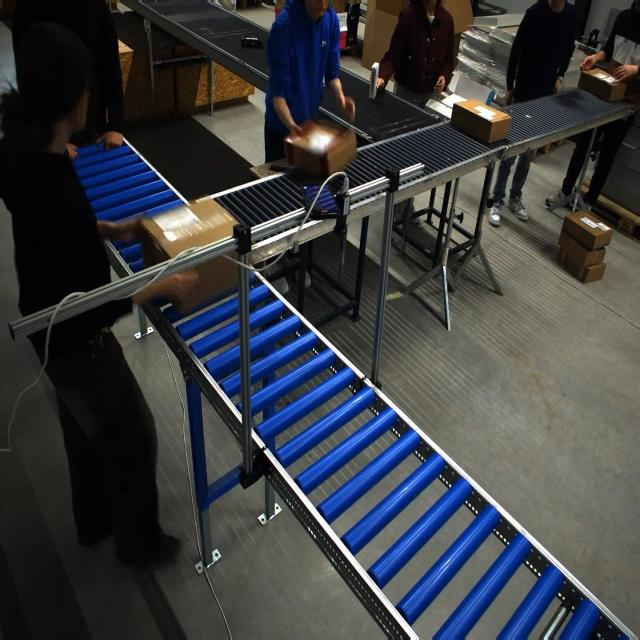box: (139, 199, 246, 301), (283, 120, 350, 180), (450, 98, 511, 144)
product: (368, 61, 383, 101), (241, 35, 263, 48)
